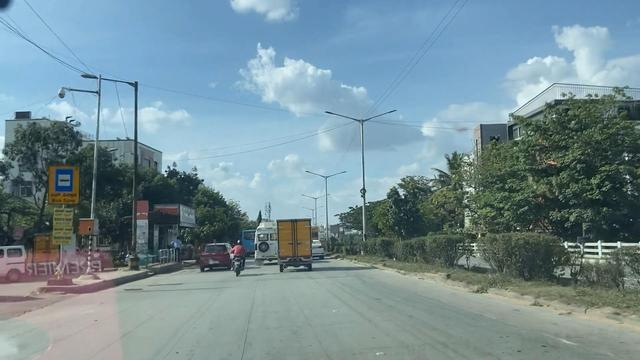HMV: (274, 214, 318, 272)
LMV: (200, 244, 232, 268), (232, 241, 248, 276)
